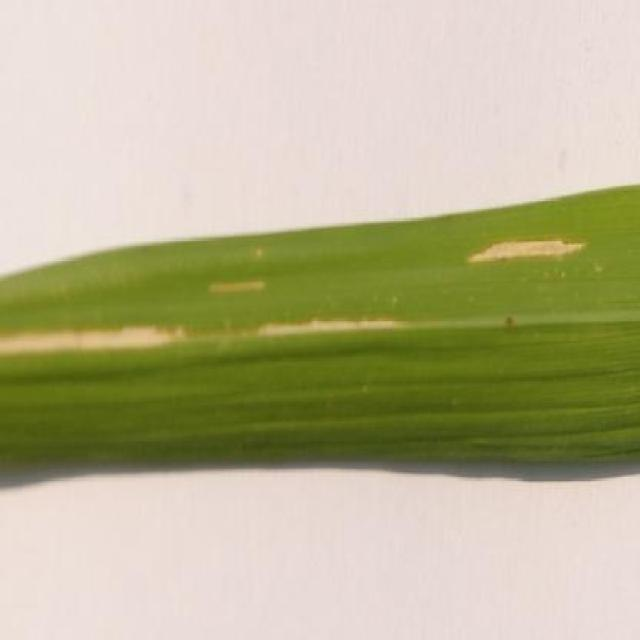Brown_Spot: (3, 235, 439, 370), (455, 184, 597, 310)
